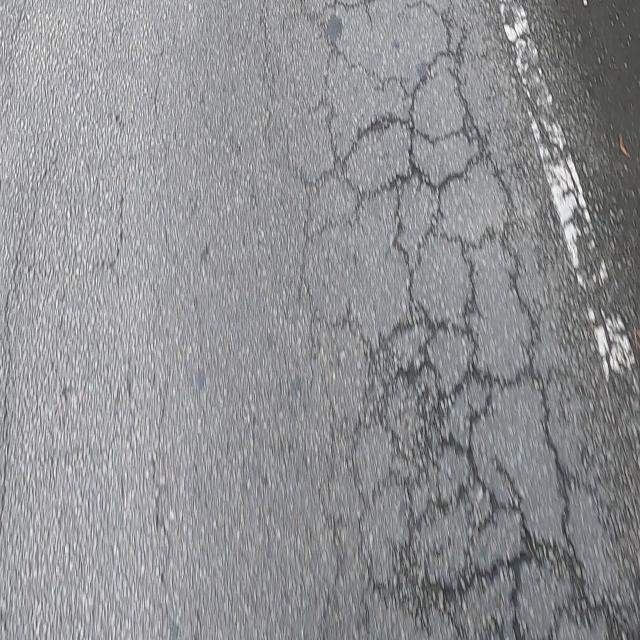Retak-Buaya: (292, 0, 628, 640)
